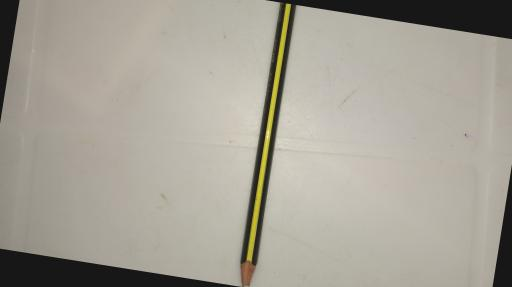Pencil: (236, 2, 298, 287)
